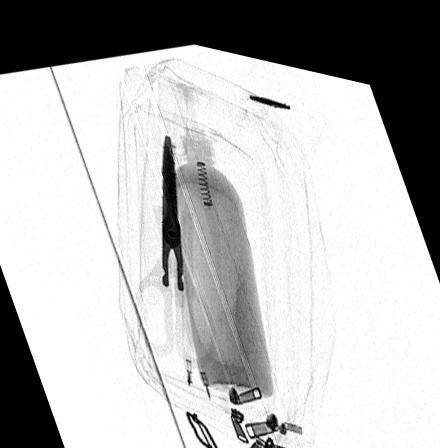Scissors: (132, 126, 215, 359)
